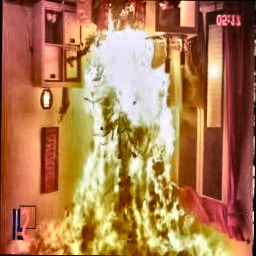fire: (40, 28, 214, 256)
